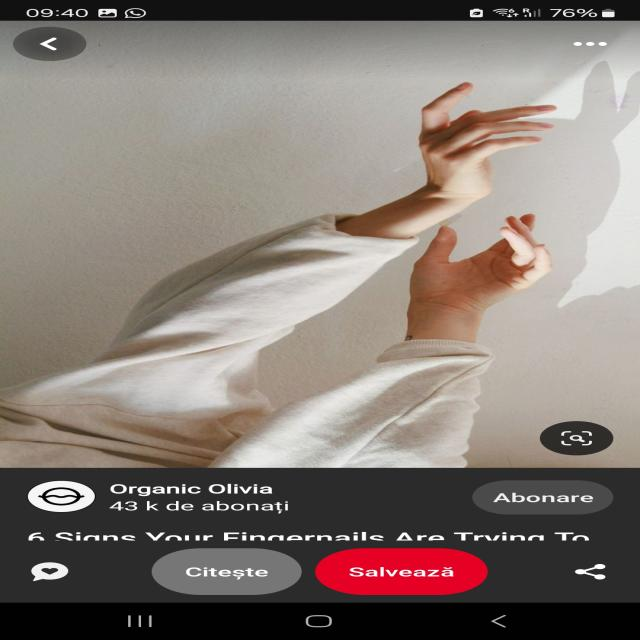hands: (370, 49, 577, 208), (406, 212, 584, 323)
